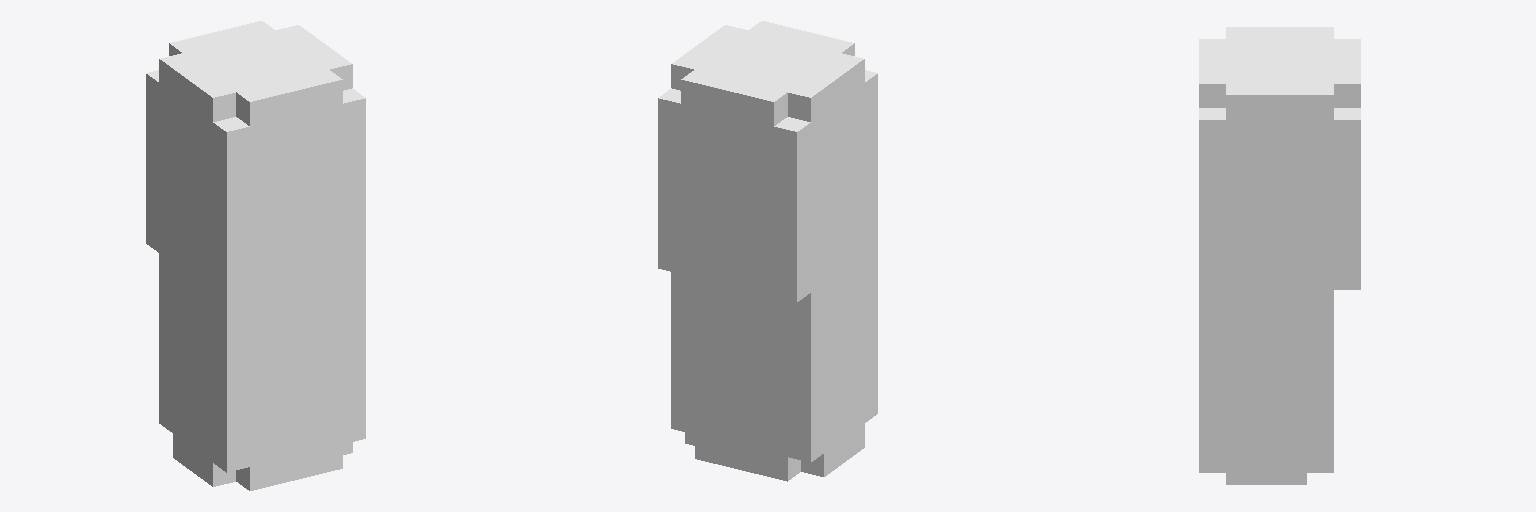
Rendered from male_02-4.obj.
3 views of the same model, side by side, from view 1: azimuth 30°, elevation 25°; view 2: azimuth 150°, elevation 25°; view 3: azimuth 270°, elevation 25° (orthographic).
Visible parts, largest first — view 1: male_02-4; view 2: male_02-4; view 3: male_02-4.
Boxes of the visible parts, x1=… form: male_02-4: x1=146, y1=21, x2=365, y2=490; male_02-4: x1=658, y1=21, x2=877, y2=481; male_02-4: x1=1199, y1=27, x2=1360, y2=484.
Size of the model in its own units: 6 by 16 by 6.